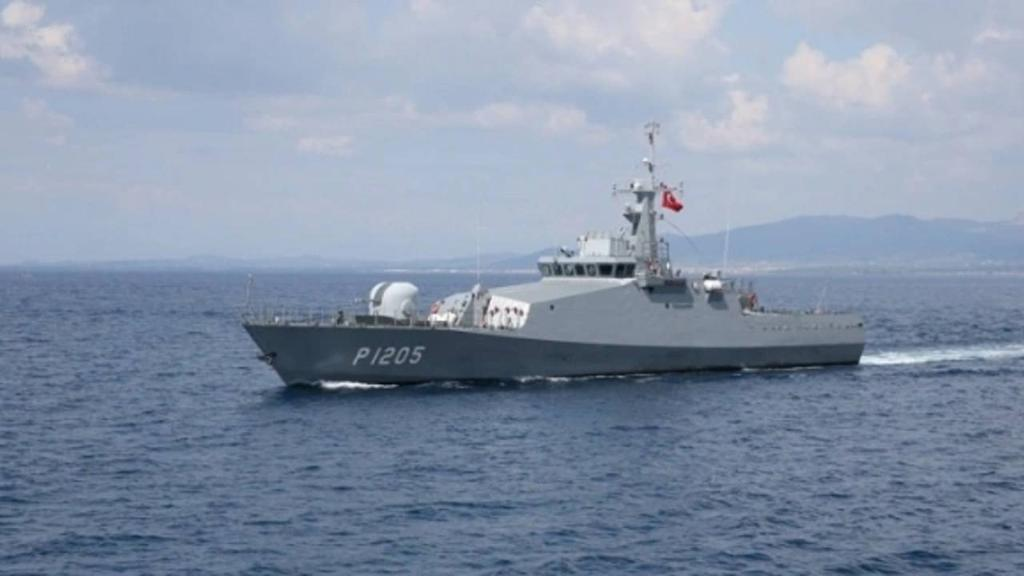Warship: (235, 112, 871, 398)
